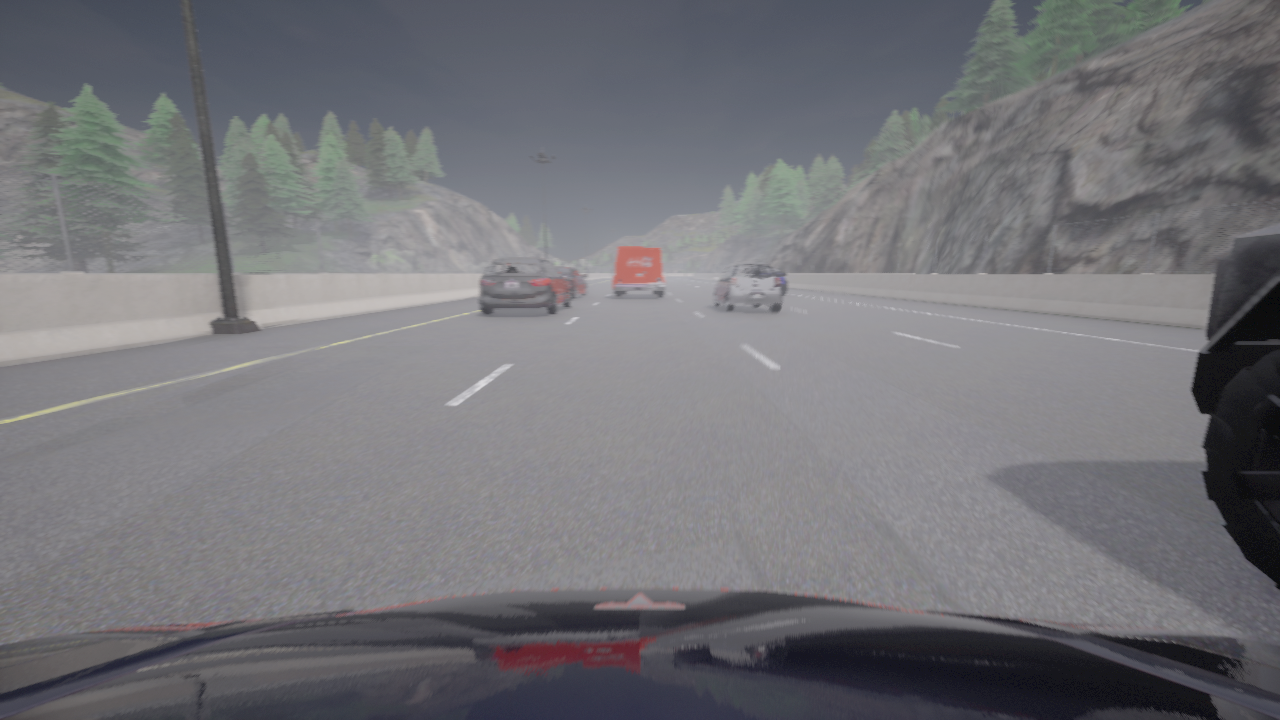cyclist: (0, 588, 1279, 719), (1190, 225, 1279, 590), (480, 258, 571, 314), (713, 264, 781, 311), (613, 247, 665, 297), (556, 267, 586, 299), (771, 268, 786, 295)
